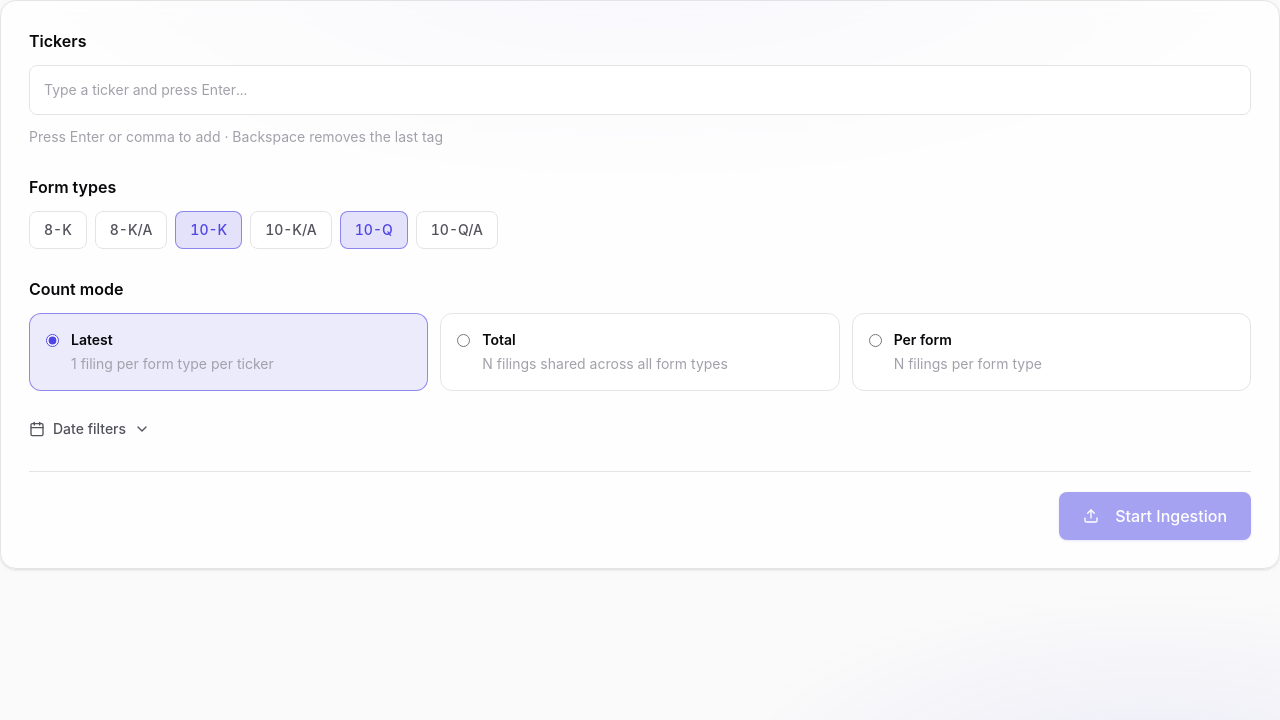
Test case: IngestForm › removes a ticker tag via the remove button
Type "MSFT" into the field with placeholder "Type a ticker and press Enter...". click: (640, 90)
box: x1=40 y1=76 x2=1240 y2=104
Then press Enter
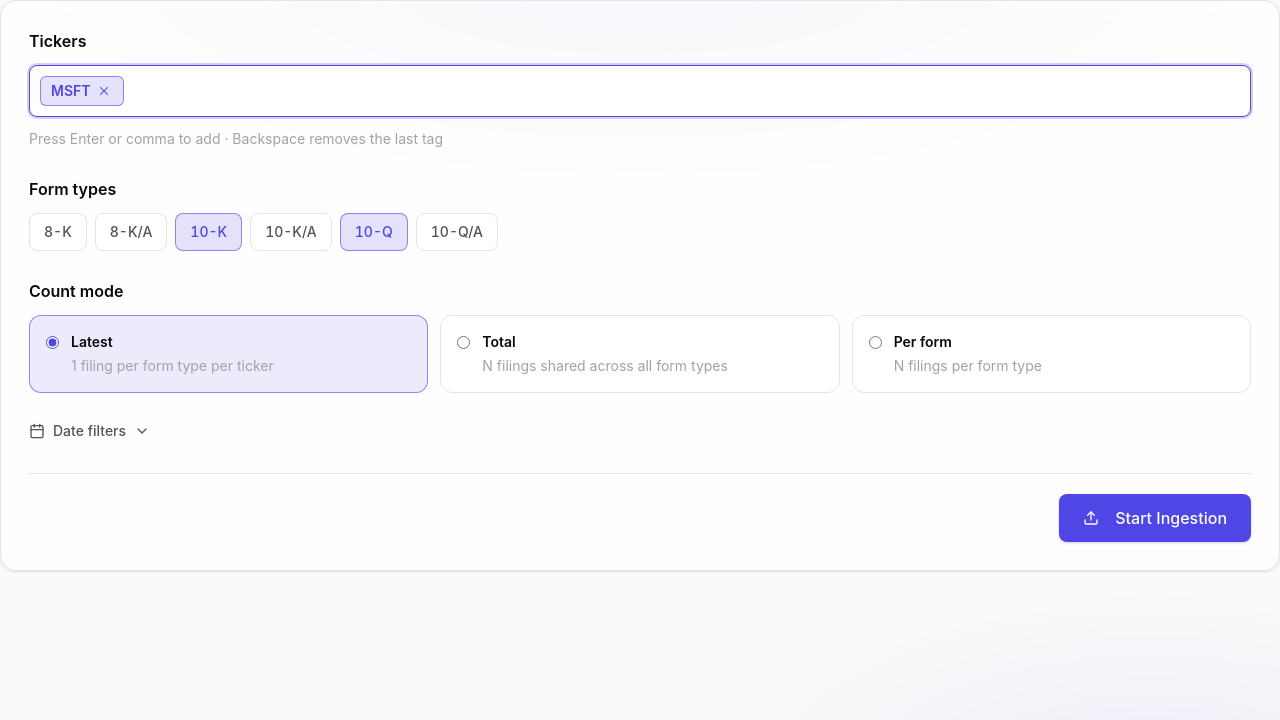
Check: the text "MSFT" is shown, box x1=40 y1=76 x2=124 y2=106
Click the button named "Remove MSFT". click: (104, 91)
box: x1=94 y1=82 x2=112 y2=100
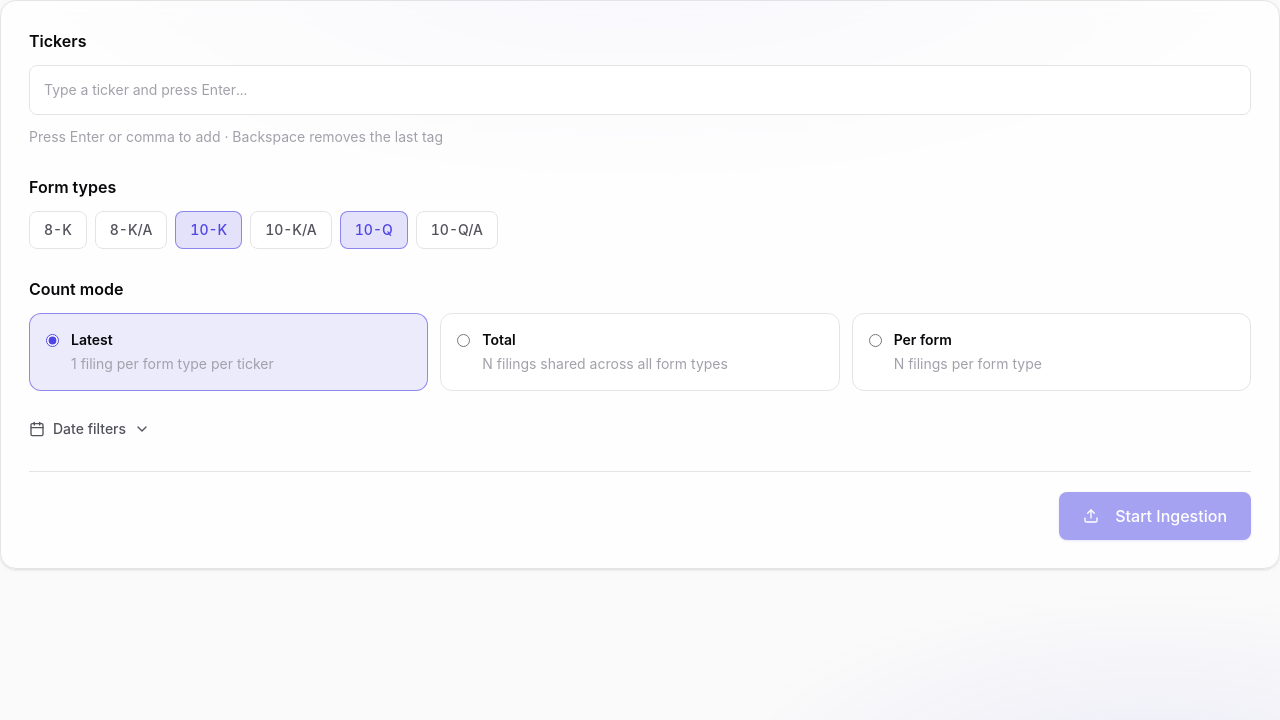
Check: the text "MSFT" is gone
